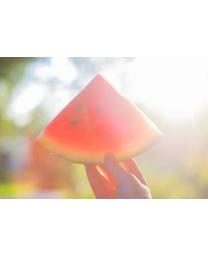watermelon: (36, 72, 164, 167)
